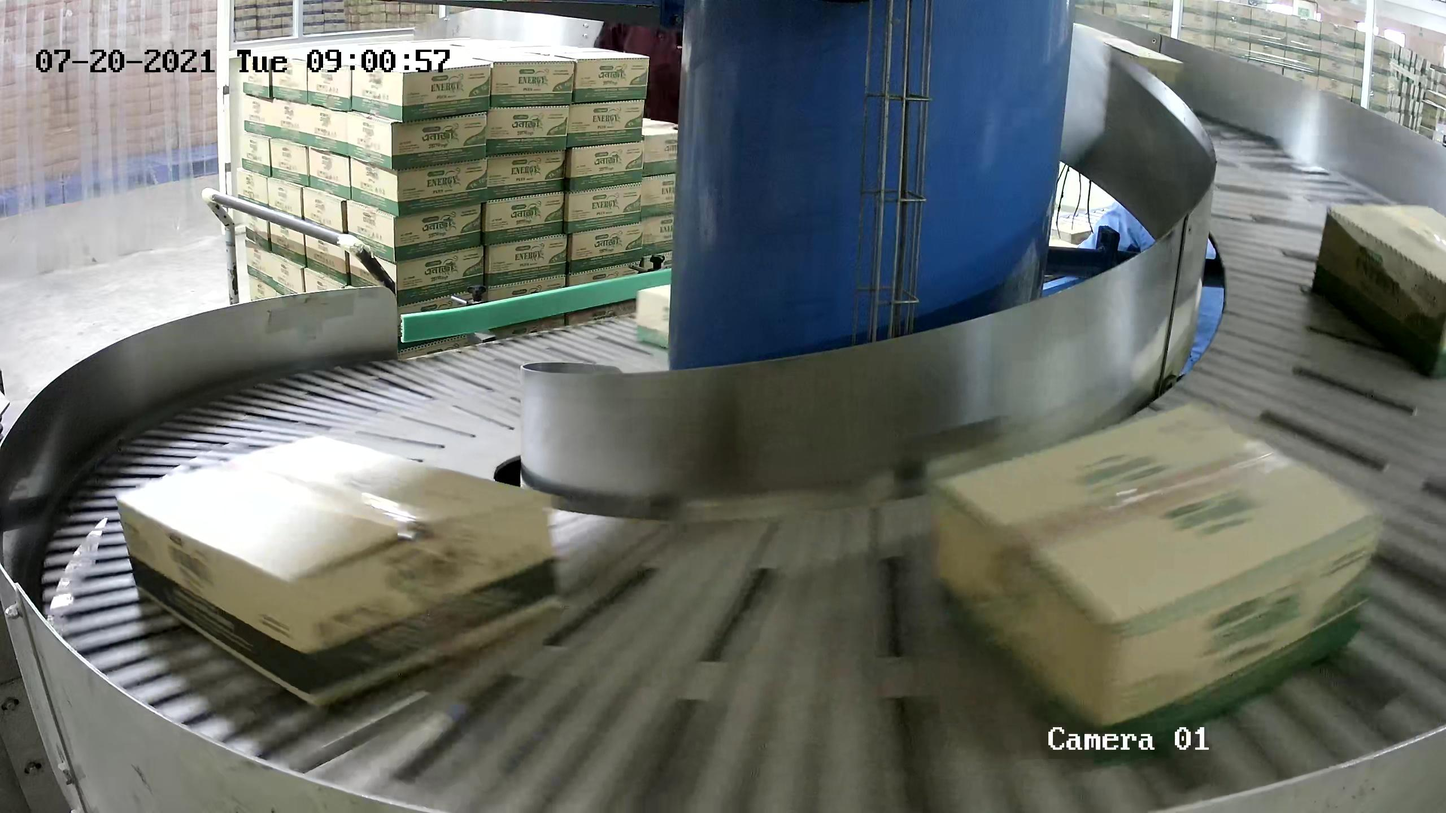Box: (929, 398, 1385, 765), (115, 433, 562, 706), (1310, 203, 1446, 379), (635, 283, 671, 350)
